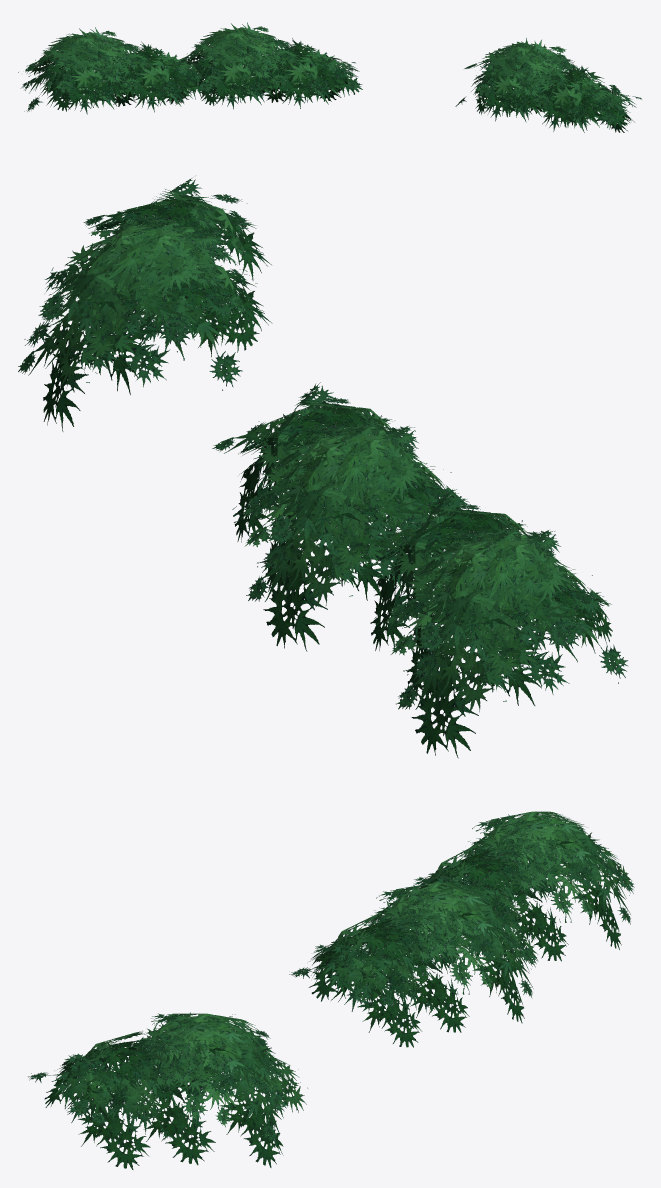
Rendered from Area_09_14.fbx.
3 renders of one model, top to bottom at view 1: azimuth 30°, elevation 25°; view 2: azimuth 150°, elevation 25°; view 3: azimuth 270°, elevation 25°, orthographic. The views are drawn at different scales.
Visible parts, largest first — view 1: Area_09_14; view 2: Area_09_14; view 3: Area_09_14.
Part boxes in pixels (left/top/right/bottom): Area_09_14: left=18, top=22, right=641, bottom=132; Area_09_14: left=18, top=178, right=628, bottom=758; Area_09_14: left=28, top=811, right=634, bottom=1169.
Size of the model in its own units: 2014 by 452 by 1774.
